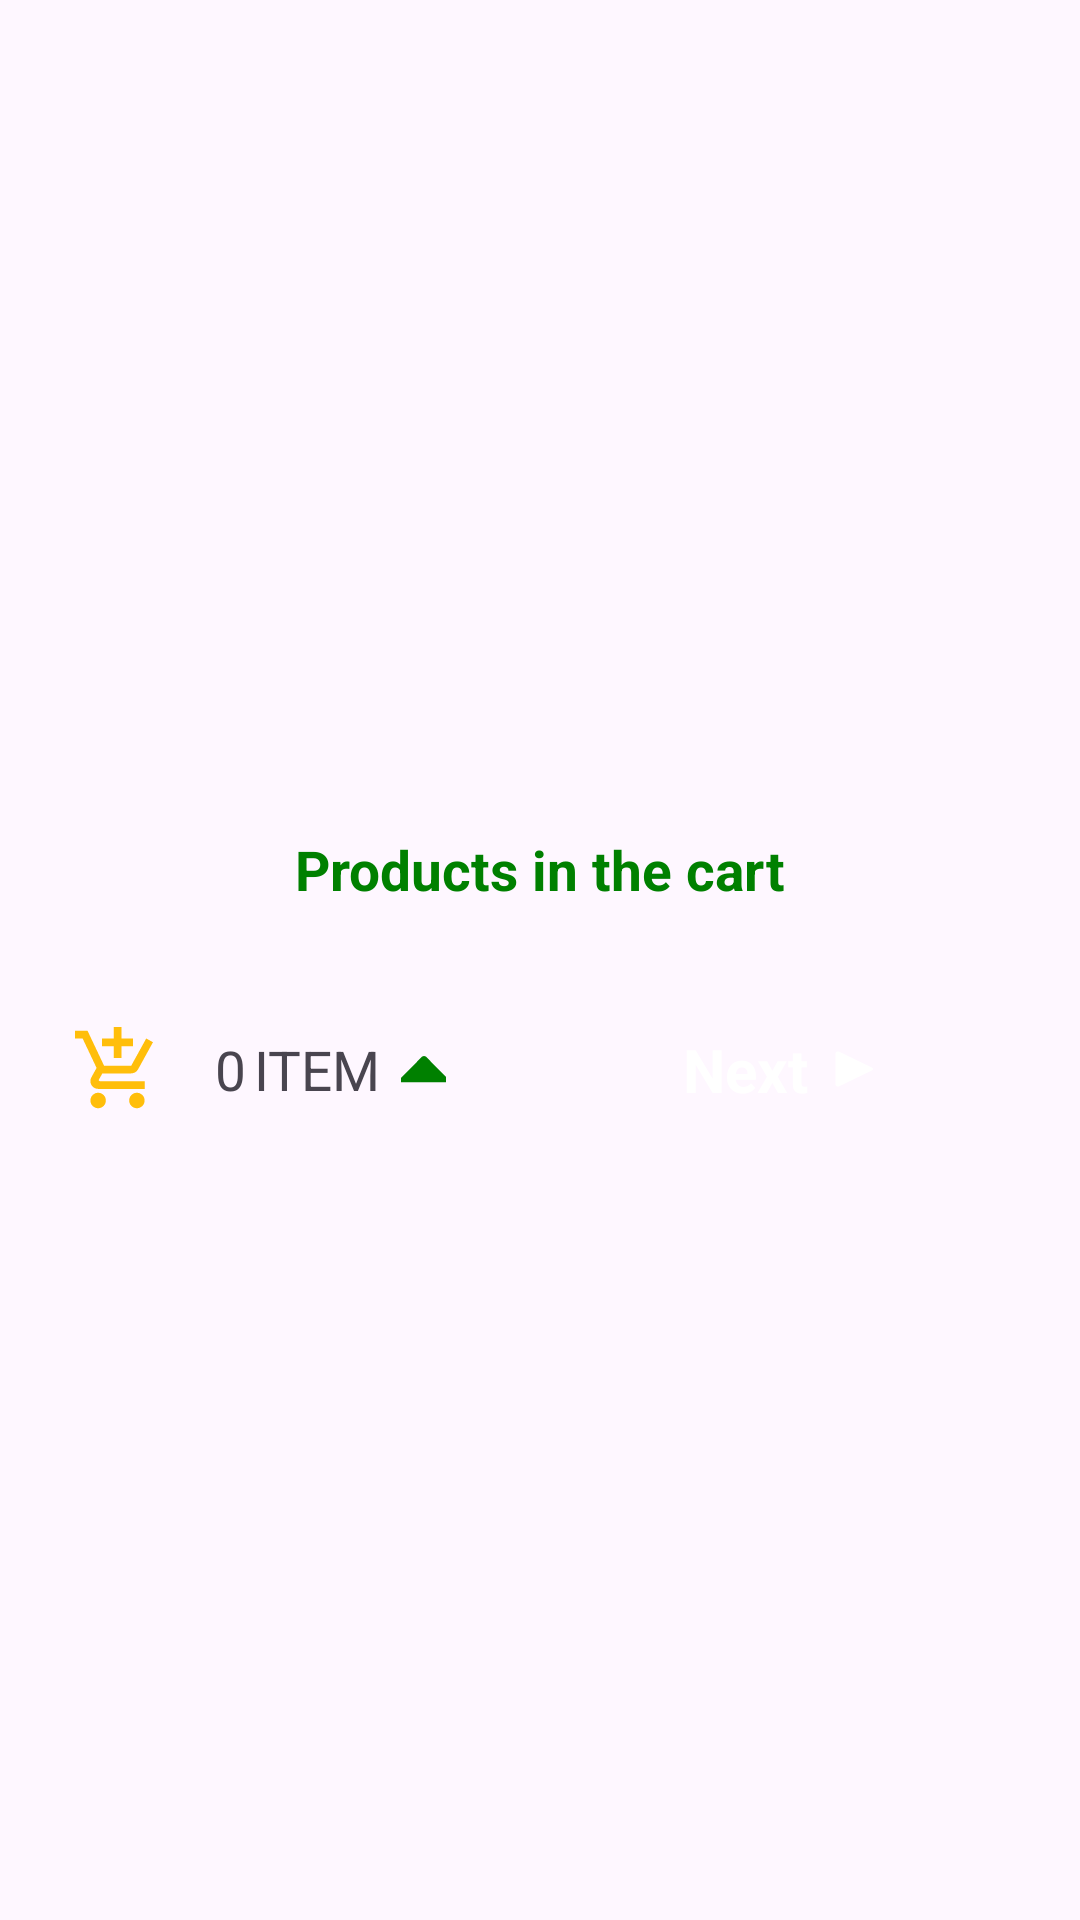

Point at icon controls on the screen. Image size 1080 x 1920, points as (x,y).
add shopping cart: (114,1068)
up arroe: (423,1069)
